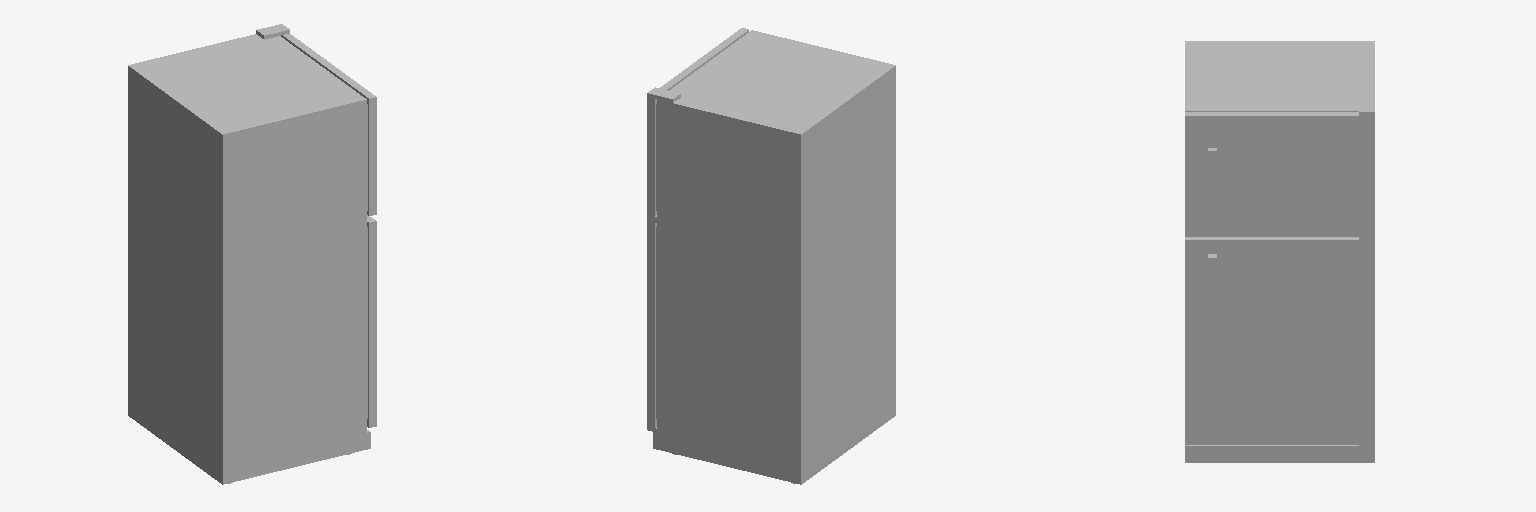
Rendered from Escenario 1 - Heladera.obj.
3 views of the same model, side by side, from view 1: azimuth 30°, elevation 25°; view 2: azimuth 150°, elevation 25°; view 3: azimuth 270°, elevation 25° (orthographic).
Parts seen in each view (by area): view 1: Mesh5 R7250___Refrigerator_Freezer__20_Cubic_Feet1 Model; view 2: Mesh5 R7250___Refrigerator_Freezer__20_Cubic_Feet1 Model; view 3: Mesh5 R7250___Refrigerator_Freezer__20_Cubic_Feet1 Model, Mesh8 R7250___Refrigerator_Freezer__20_Cubic_Feet1 Model, Mesh9 R7250___Refrigerator_Freezer__20_Cubic_Feet1 Model.
Boxes of the visible parts, x1,y1,x2,y2 form: Mesh5 R7250___Refrigerator_Freezer__20_Cubic_Feet1 Model: [128, 24, 376, 484]; Mesh5 R7250___Refrigerator_Freezer__20_Cubic_Feet1 Model: [647, 28, 895, 484]; Mesh5 R7250___Refrigerator_Freezer__20_Cubic_Feet1 Model: [1185, 41, 1374, 462]; Mesh8 R7250___Refrigerator_Freezer__20_Cubic_Feet1 Model: [1208, 254, 1216, 337]; Mesh9 R7250___Refrigerator_Freezer__20_Cubic_Feet1 Model: [1208, 148, 1216, 218].
Bounding box in the file's own units: 0.8255 × 1.75 × 0.8382.